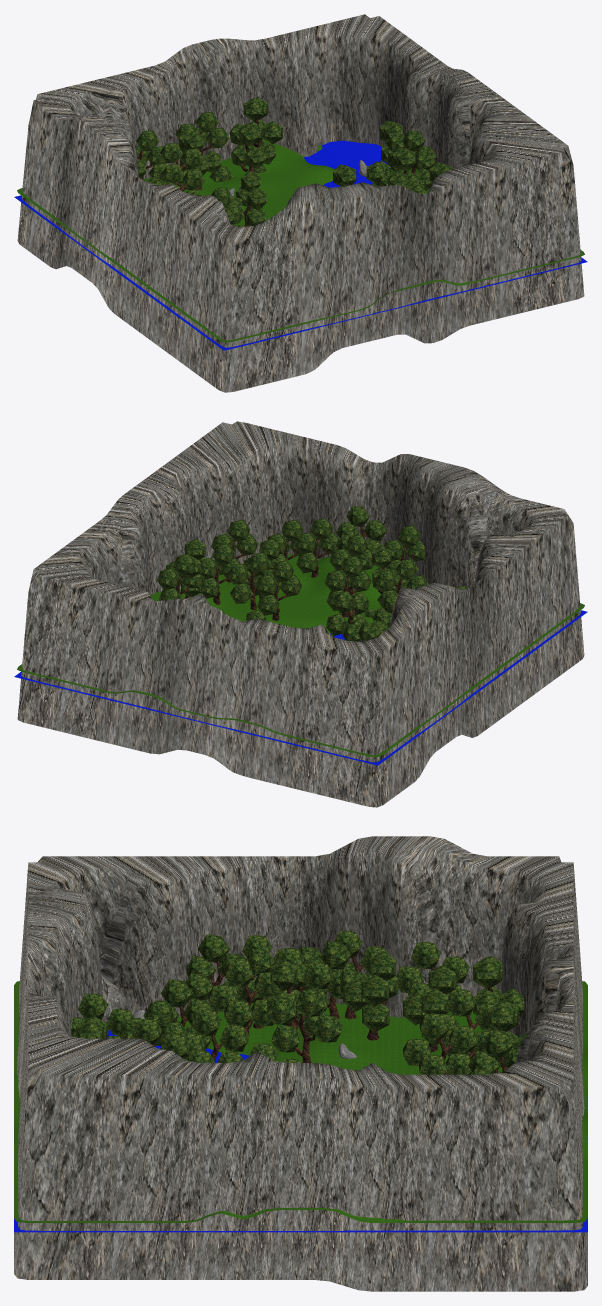
Rendered from homeba.obj.
The picture shows the model from 3 angles, top to bottom: view 1: azimuth 30°, elevation 25°; view 2: azimuth 150°, elevation 25°; view 3: azimuth 270°, elevation 25°; orthographic projection. The views are drawn at different scales.
Visible parts, largest first — view 1: Plane, Plane1, Plane2; view 2: Plane, Plane1, Plane2; view 3: Plane, Plane1, Plane2, Icosahedron106, Icosahedron77, Icosahedron69, Icosahedron52, Icosahedron136, Icosahedron131, Icosahedron121, Icosahedron154, Icosahedron79 (+20 smaller).
Part boxes in pixels (bbox=[...]): Plane: bbox=[17, 14, 584, 392]; Plane1: bbox=[17, 139, 584, 342]; Plane2: bbox=[14, 140, 587, 350]; Plane: bbox=[17, 421, 584, 807]; Plane1: bbox=[17, 554, 584, 757]; Plane2: bbox=[14, 610, 587, 765]; Plane: bbox=[14, 836, 587, 1291]; Plane1: bbox=[14, 981, 587, 1222]; Plane2: bbox=[14, 1030, 587, 1232]; Icosahedron106: bbox=[487, 1001, 515, 1031]; Icosahedron77: bbox=[361, 974, 388, 1006]; Icosahedron69: bbox=[473, 957, 500, 988]; Icosahedron52: bbox=[270, 959, 297, 991]; Icosahedron136: bbox=[482, 1029, 514, 1058]; Icosahedron131: bbox=[197, 934, 229, 963]; Icosahedron121: bbox=[160, 979, 192, 1007]; Icosahedron154: bbox=[101, 975, 128, 1022]; Icosahedron79: bbox=[368, 951, 396, 980].
Bounding box in the file's own units: 52.68 × 22.52 × 52.68.
6 materials, 6 textured.
